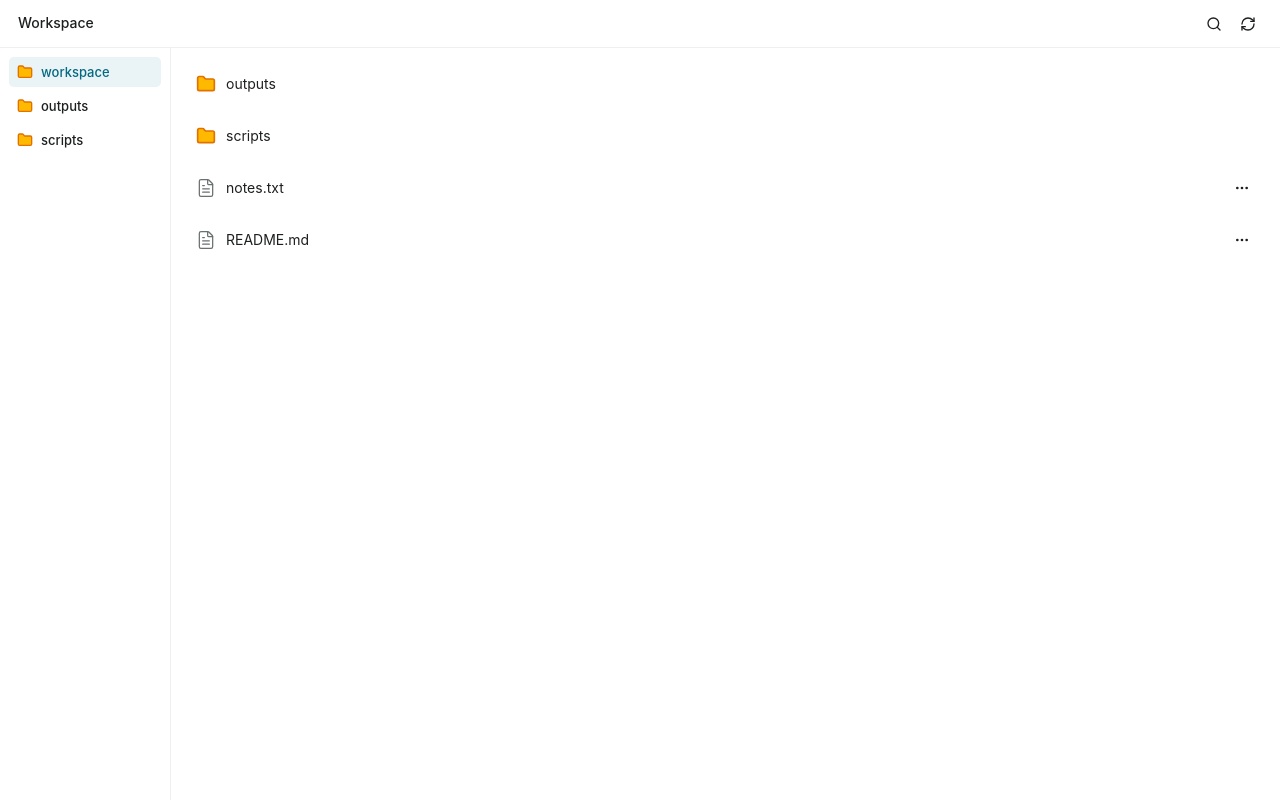
Test case: switches files inside the same non-modal drawer and closes it
This screenshot has width=1280, height=800.
What coordinates should you click on to do the following:
click the button "README.md"
I would click on:
 (268, 240)
Its box is [183,216,1228,264].
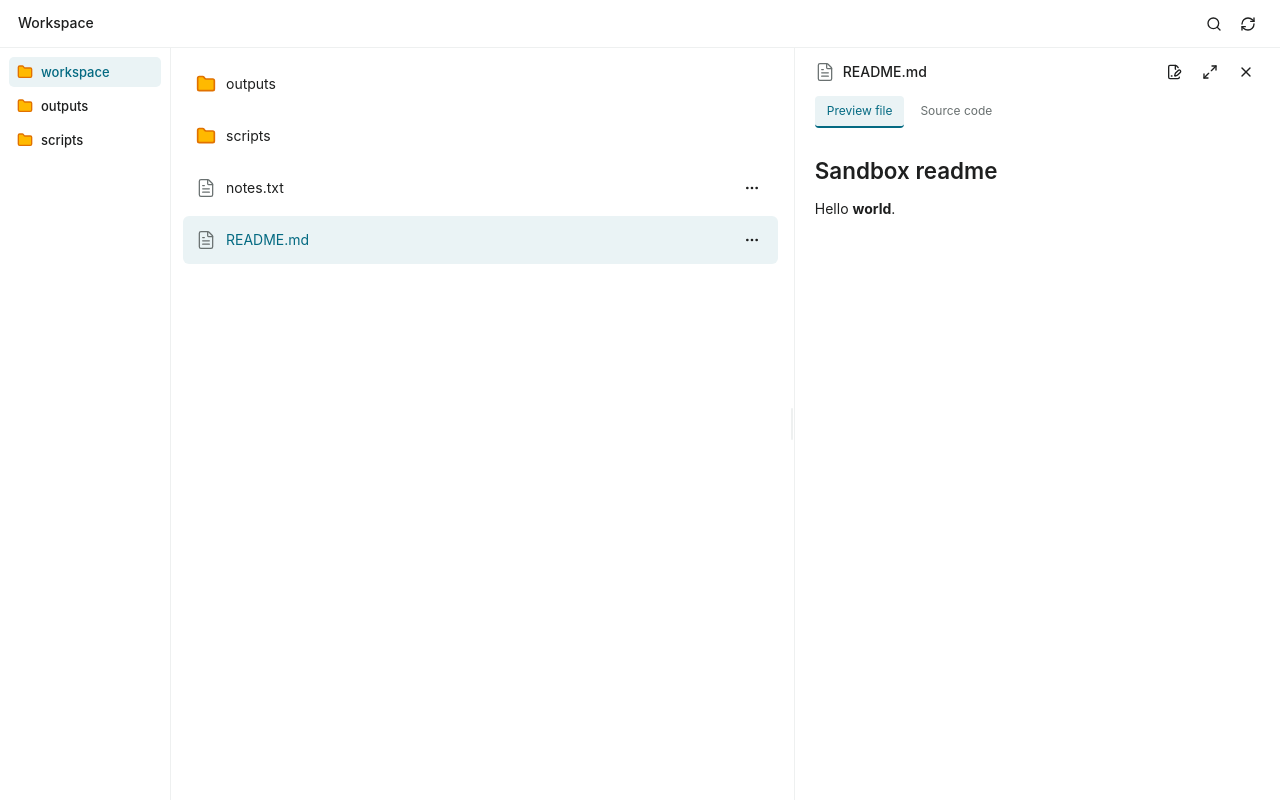
Expected: the heading "Sandbox readme" is shown, [815,157,998,184]
What coordinates should you click on to do the following:
click the button "notes.txt"
I would click on:
 (255, 188)
Its box is [183,164,738,212].
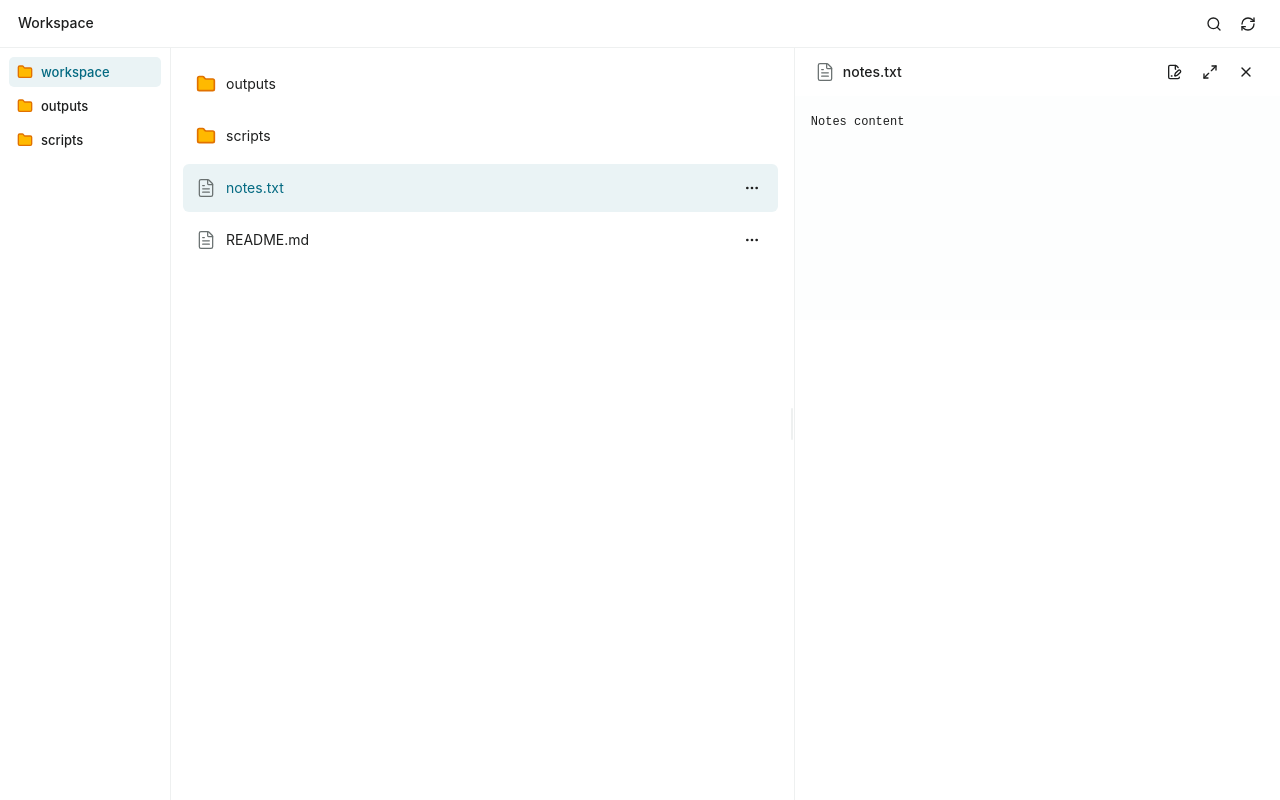
Expected: the text "Notes content" is shown, [811,115,904,129]
What coordinates should you click on to do the following:
click the button named "Close preview"
I would click on:
 (1246, 72)
Its box is [1232,58,1260,86].
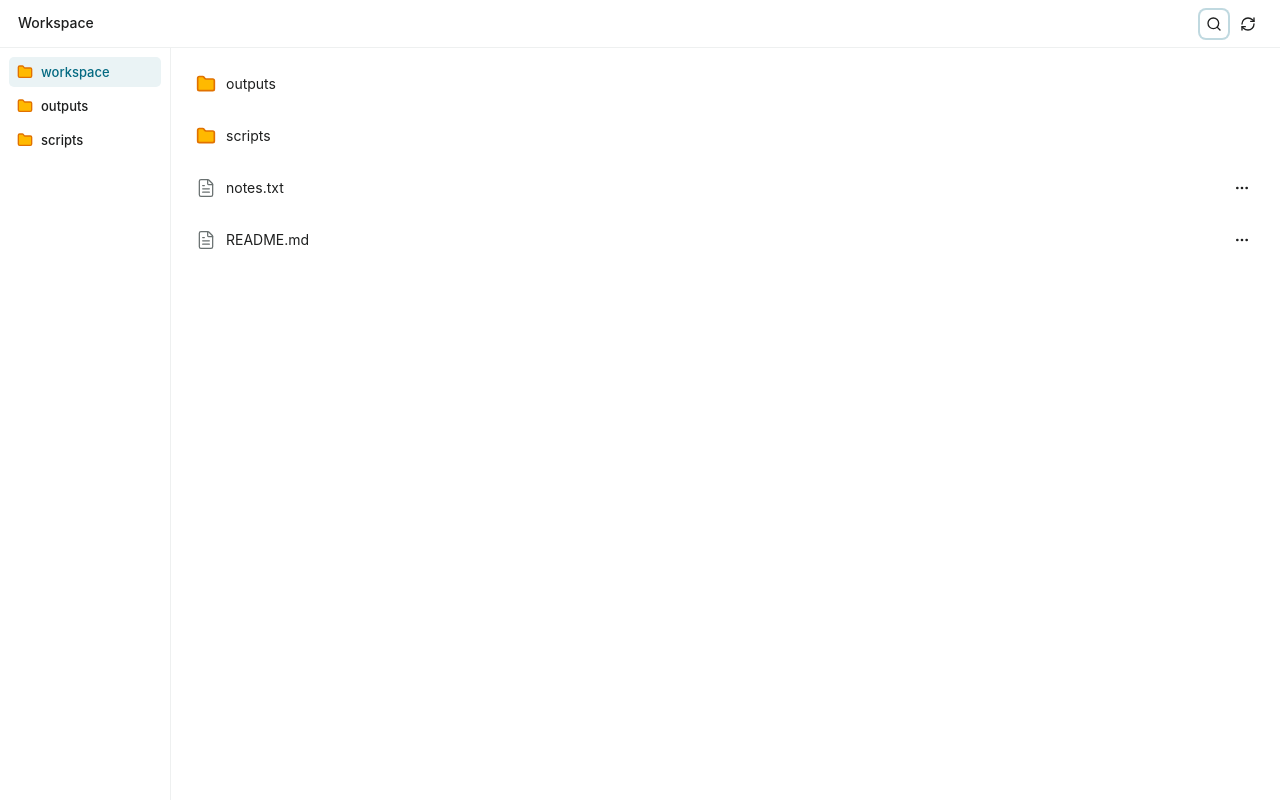
Expected: the list named "Workspace files" is shown, [171,48,1279,276]
Expected: the dialog is gone
